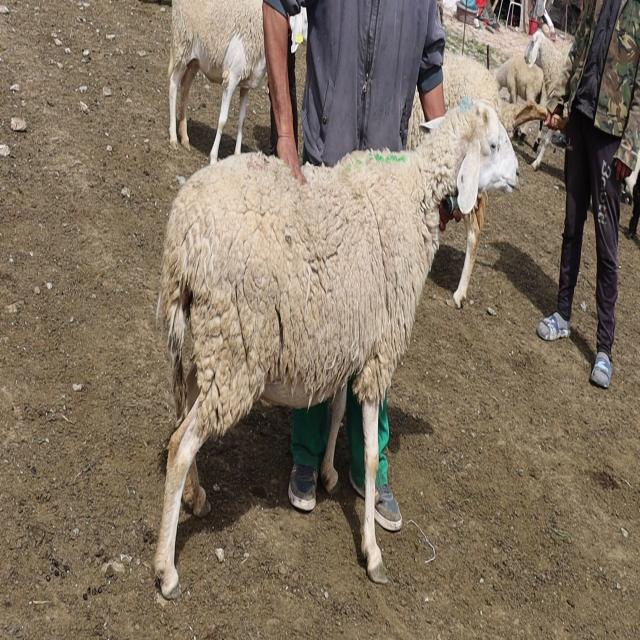Score_4: (154, 100, 518, 599)
